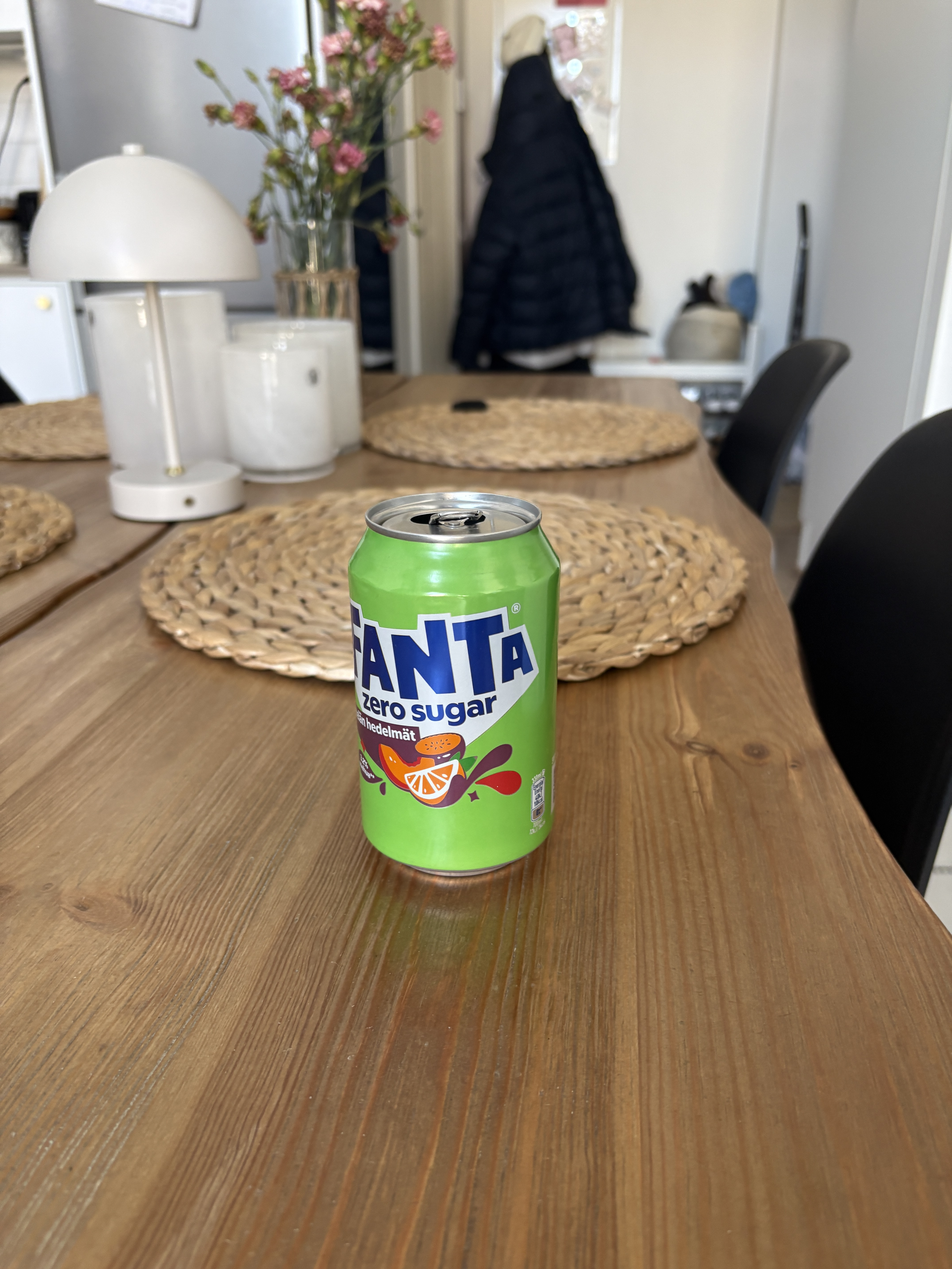Pantburk: (326, 445, 602, 919)
